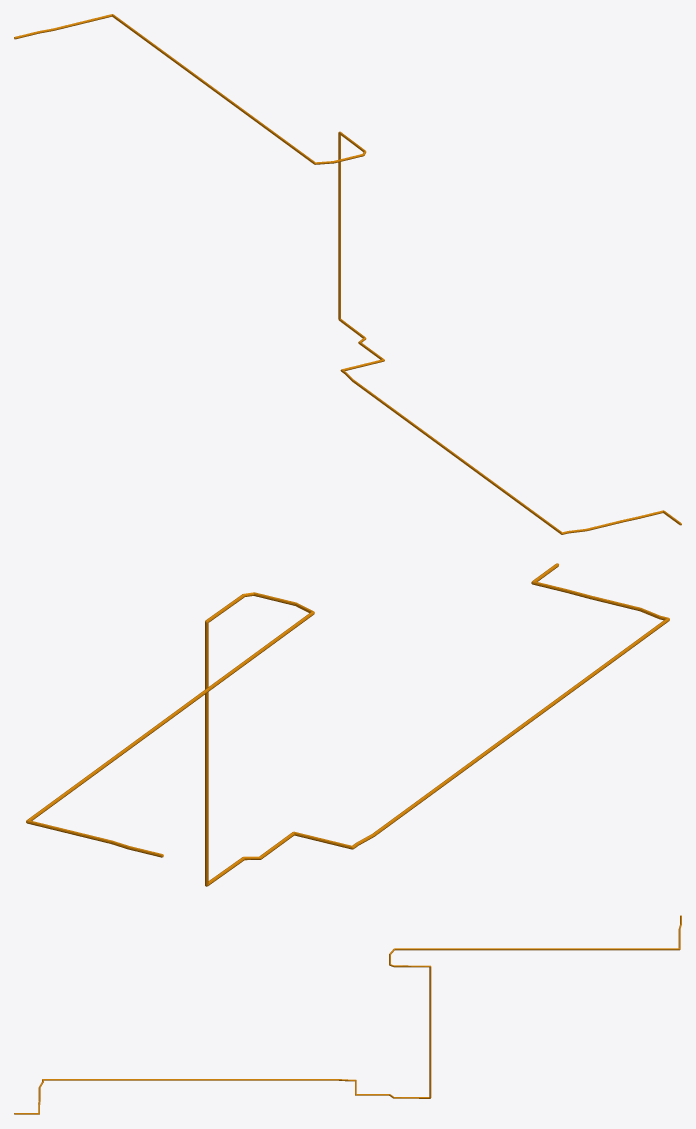
3 views of the same model, one above another, from view 1: azimuth 30°, elevation 25°; view 2: azimuth 150°, elevation 25°; view 3: azimuth 270°, elevation 25° (orthographic). The views are drawn at different scales.
Bounding box in the file's own units: 1636 × 1520 × 6908.
